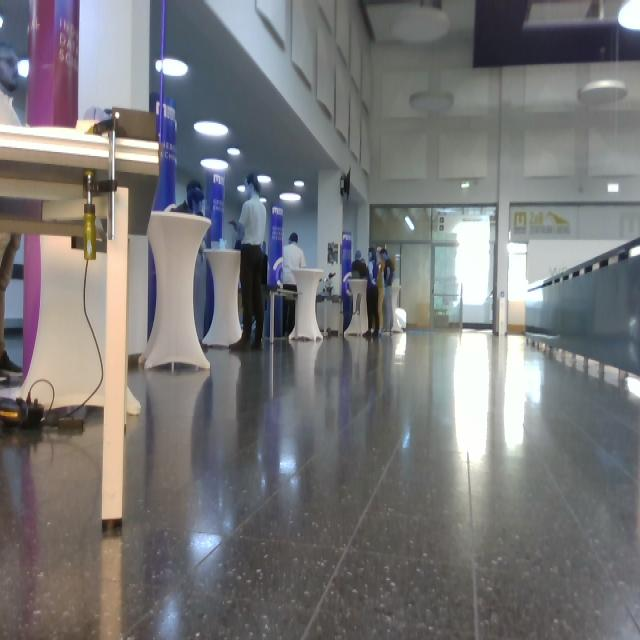door: (431, 241, 462, 329)
light bulb: (390, 2, 451, 45), (578, 78, 628, 109), (410, 90, 454, 113), (618, 1, 640, 32), (155, 57, 188, 77), (194, 121, 229, 137), (200, 158, 229, 172), (17, 59, 30, 79), (279, 193, 302, 202), (405, 216, 415, 232), (257, 176, 272, 184), (227, 148, 241, 156), (294, 180, 305, 188), (237, 185, 246, 193), (1, 14, 4, 29)
person: (1, 41, 24, 380), (229, 173, 267, 352), (282, 233, 307, 337), (362, 248, 381, 338), (379, 248, 396, 334)
tiled floor: (1, 327, 639, 639)
